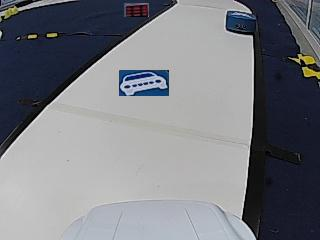prop: (225, 10, 256, 34)
